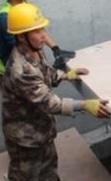gloves: (51, 44, 75, 60), (51, 56, 67, 70)
hard-hat: (6, 1, 49, 34)
ppe-suit: (0, 42, 75, 181)
